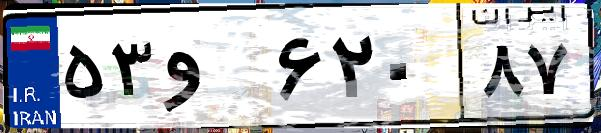0: (385, 28, 445, 110)
2: (330, 28, 385, 110)
3: (110, 28, 158, 98)
5: (57, 26, 110, 100)
6: (270, 28, 330, 110)
7: (525, 38, 570, 115)
8: (475, 38, 525, 113)
و: (158, 20, 270, 120)
